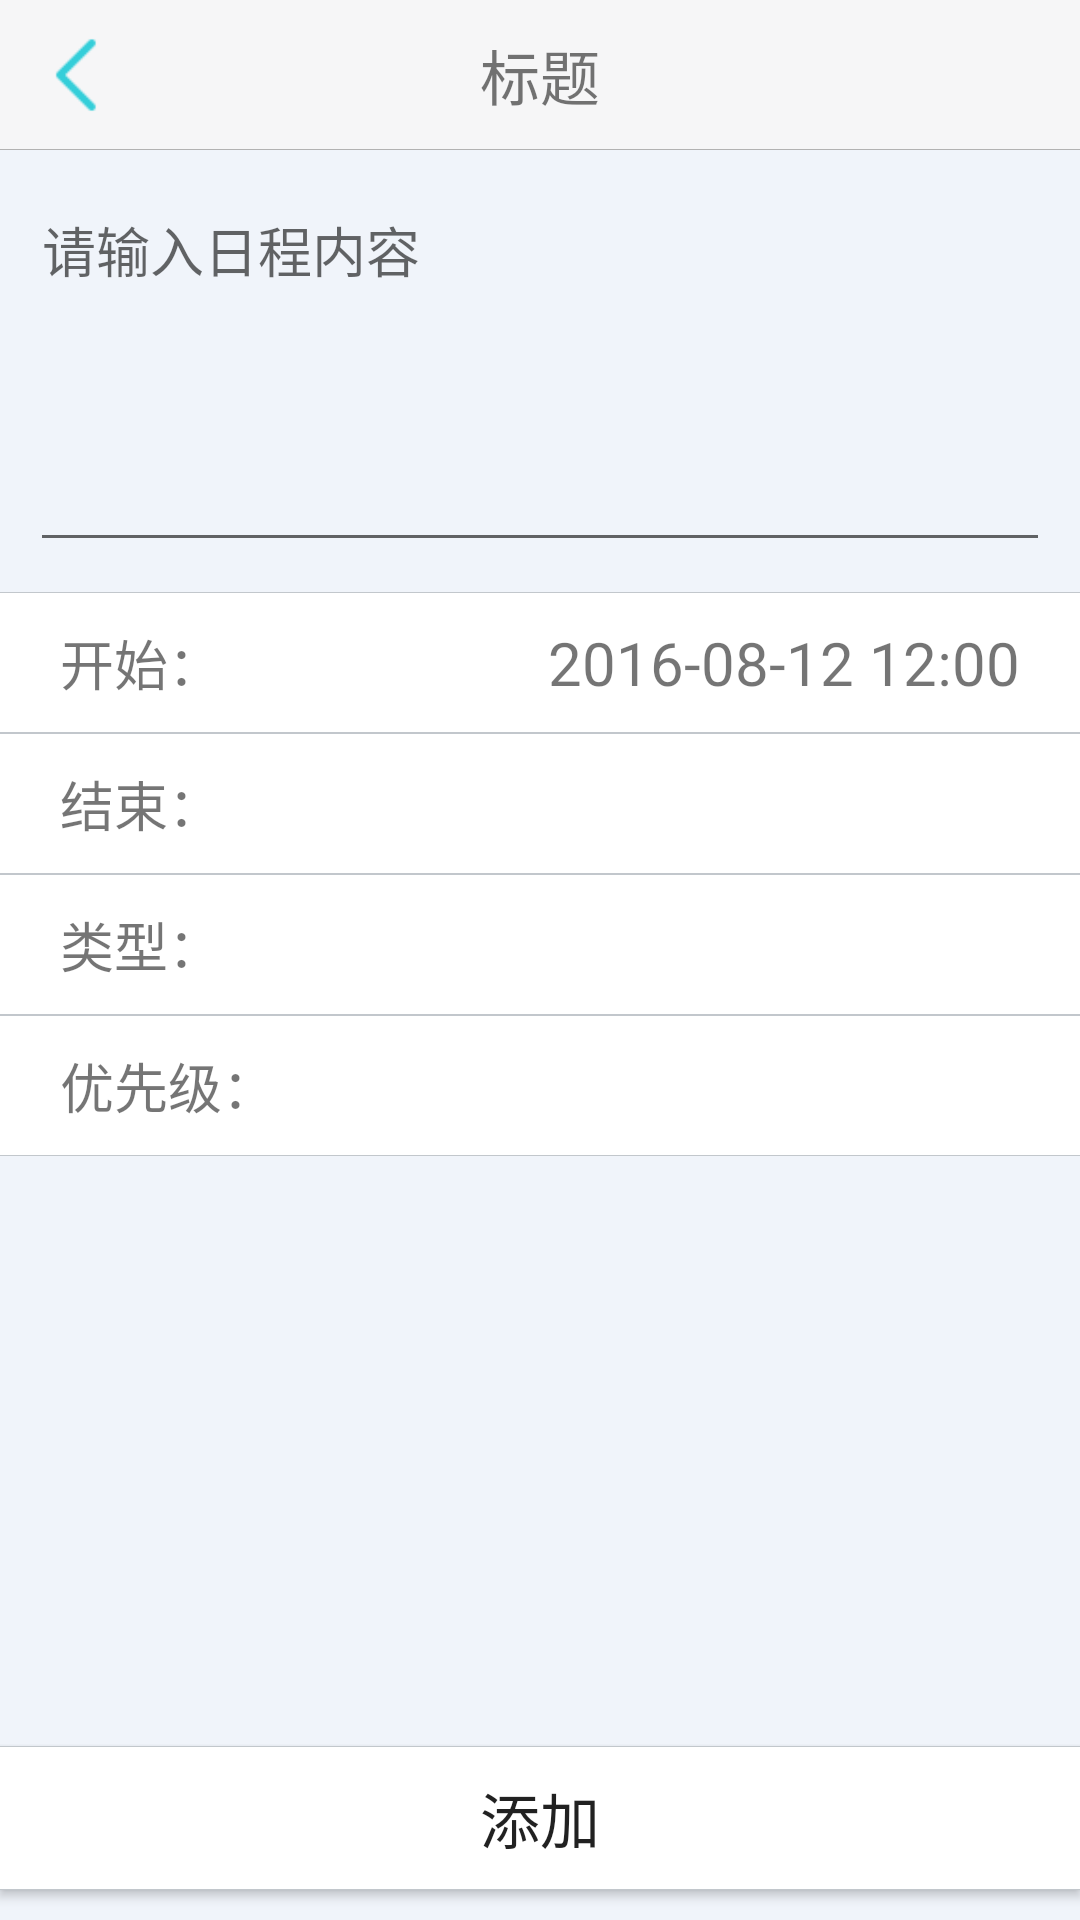

Named icons in this screenshot (1080×1920) and their centers, (x,y):
explorer backward: (76,75)
